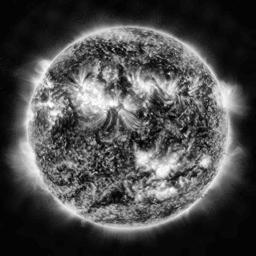solar flares: (73, 80, 115, 118), (132, 75, 159, 101), (152, 154, 180, 179), (133, 145, 153, 171), (143, 186, 176, 201), (47, 98, 66, 123), (104, 31, 135, 46), (157, 79, 178, 101)
sunspots: (142, 99, 175, 126), (128, 131, 161, 151), (103, 186, 131, 205), (55, 120, 80, 141), (146, 59, 172, 76), (184, 116, 202, 140), (113, 66, 128, 91), (92, 133, 109, 150), (47, 69, 66, 79), (114, 49, 128, 59)
